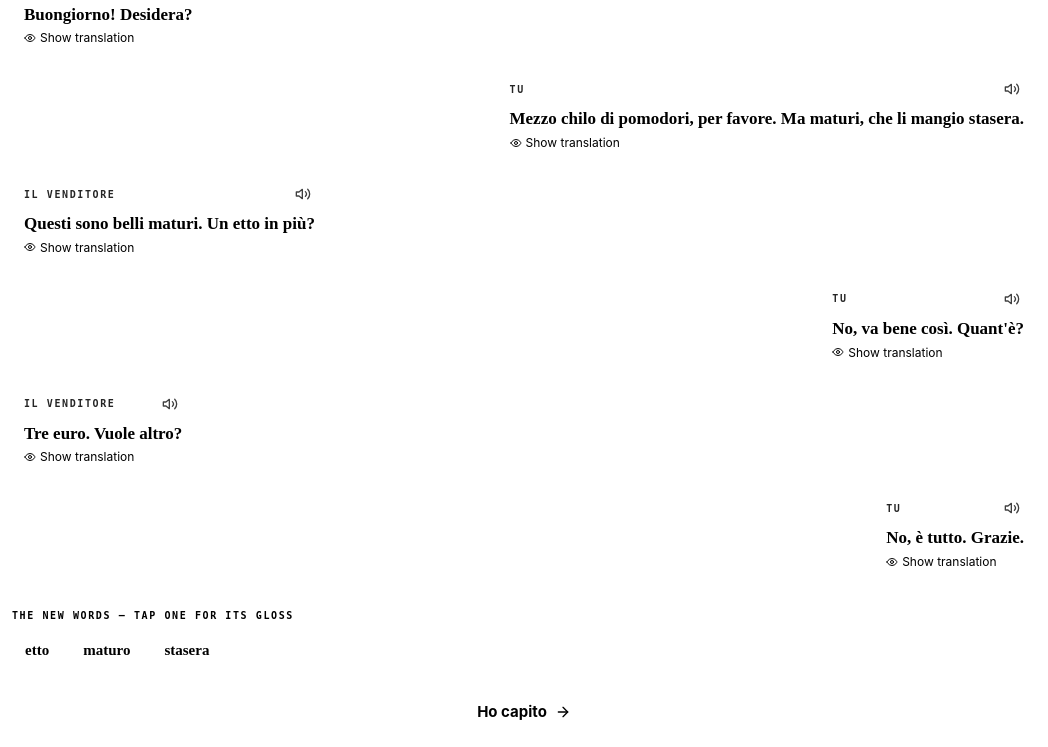
Test: the new words › shows one gloss at a time
(page scrolled)
Click the button "etto" at (37, 650), box [12, 633, 62, 667]
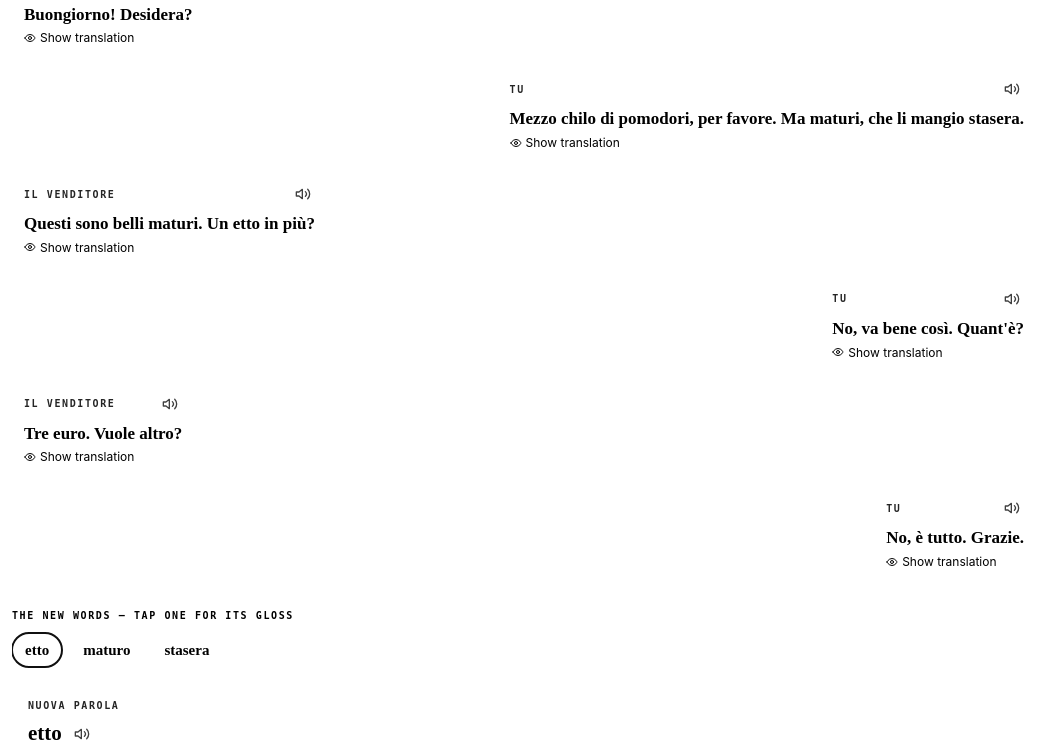
Click the button "maturo" at (107, 650), box [70, 633, 143, 667]
(page scrolled)
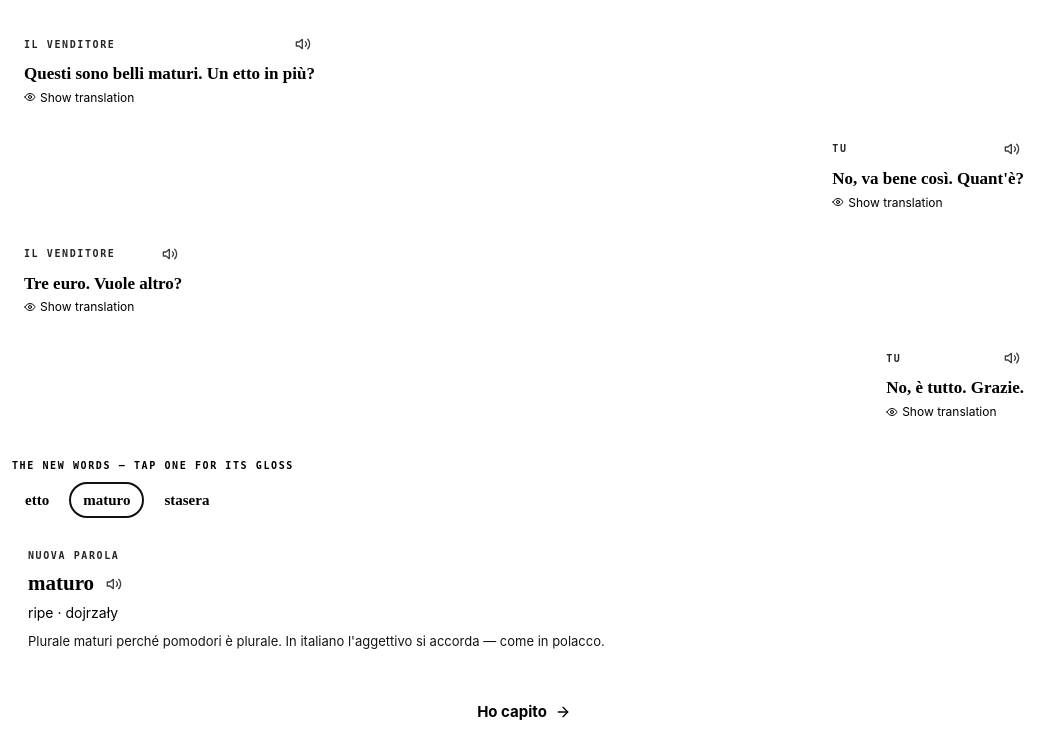
Check: the text "Plurale maturi perché pomodori è plurale. In italiano l'aggettivo si accorda — come in polacco." is shown, box [28, 633, 605, 649]
